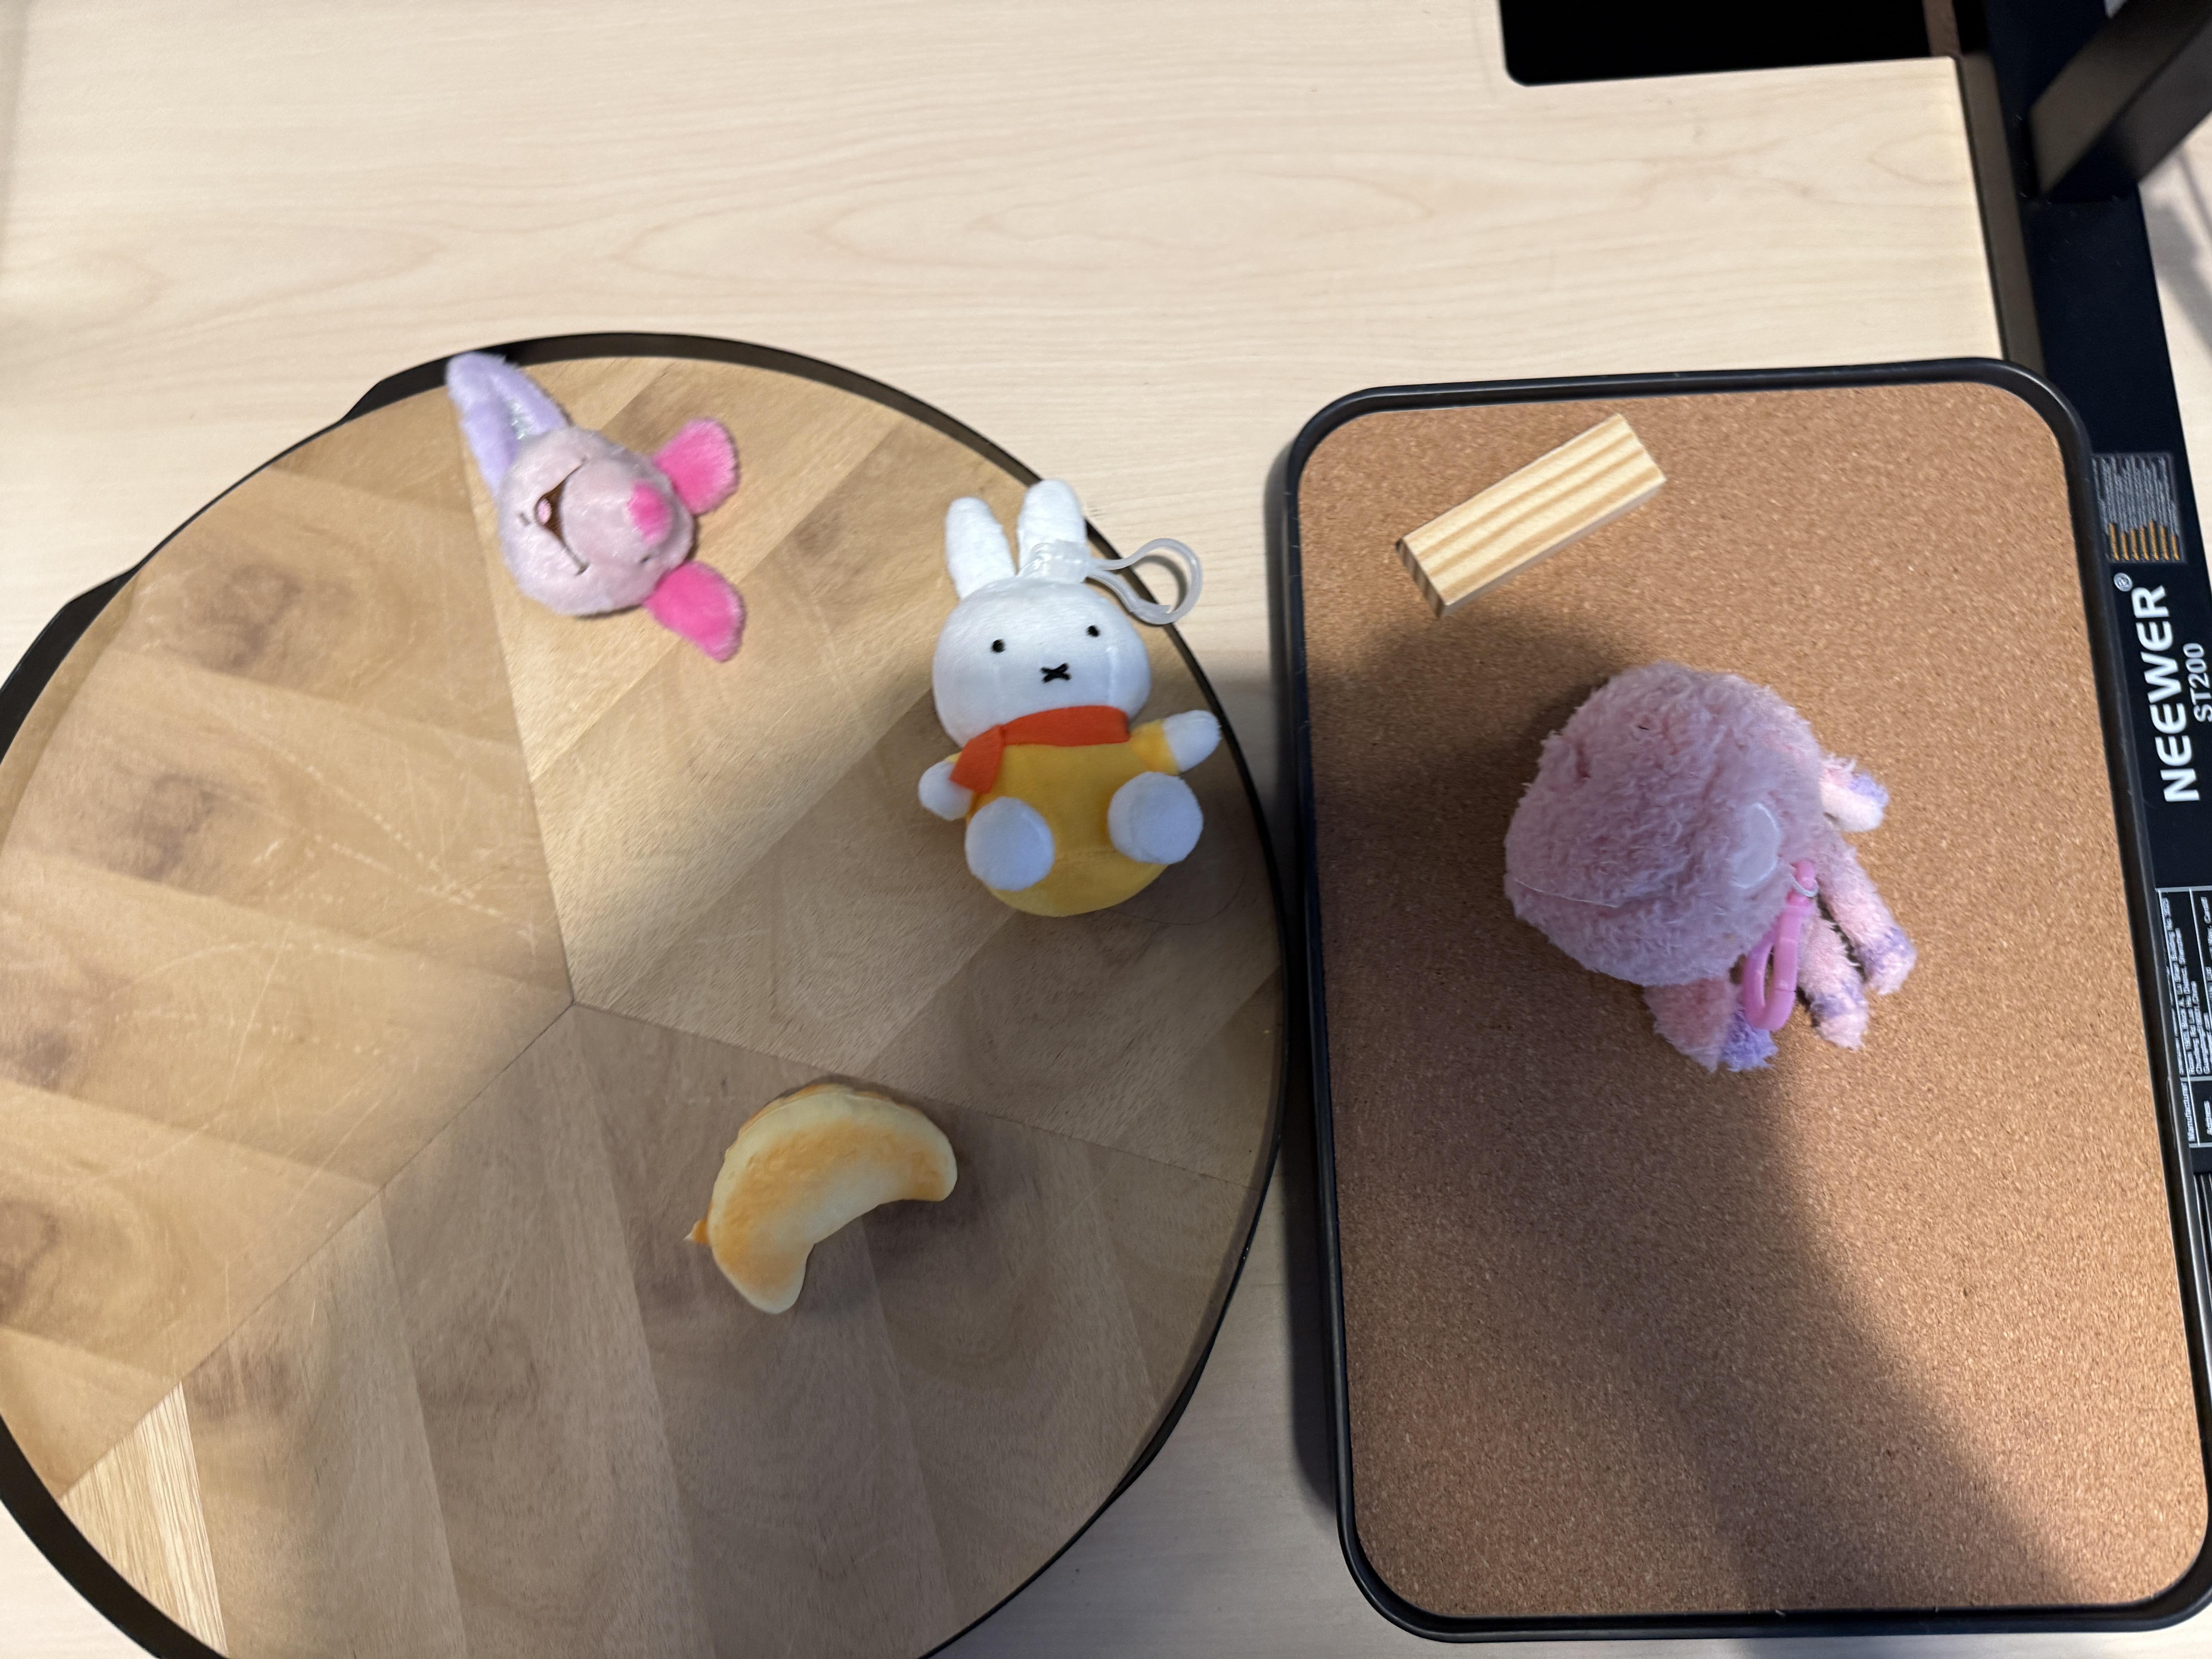block: (1397, 411, 1667, 613)
bread: (704, 1080, 958, 1317)
doll: (1501, 659, 1912, 1066), (921, 476, 1226, 917), (448, 354, 745, 662)
